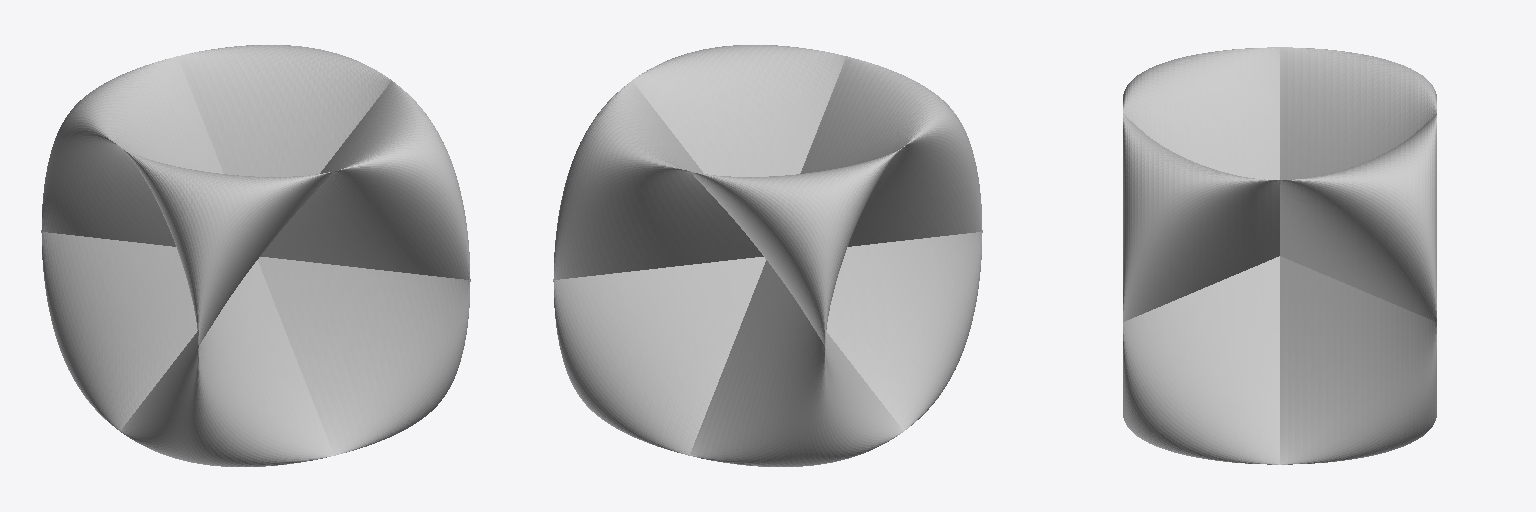
The model's file is sin.obj.
The picture shows the model from 3 angles: view 1: azimuth 30°, elevation 25°; view 2: azimuth 150°, elevation 25°; view 3: azimuth 270°, elevation 25°; orthographic projection.
Visible parts, largest first — view 1: XYZ_Function.007; view 2: XYZ_Function.007; view 3: XYZ_Function.007.
Part boxes in pixels (x1,y1,x2,y2): XYZ_Function.007: (41,45,470,466); XYZ_Function.007: (553,45,982,466); XYZ_Function.007: (1123,47,1436,464).
Bounding box in the file's own units: 2 × 2 × 2.